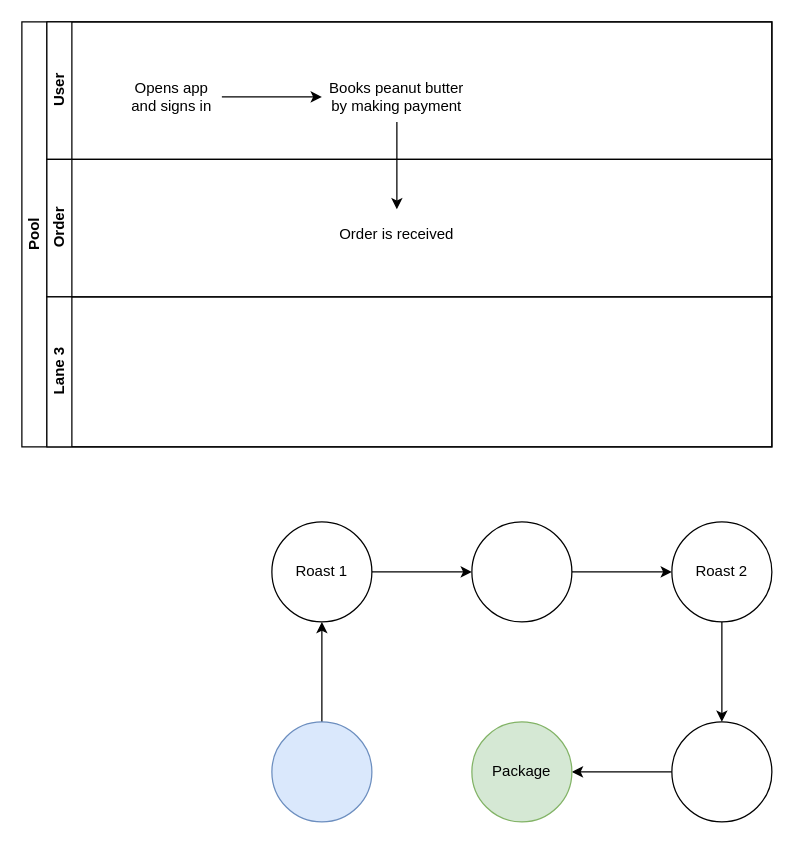
The diagram is 794 pixels wide and 844 high, and some of its shapes have lost their labels. Each missing label, with the centre of its shape:
Blend: the point at 721,771
Peel: the point at 521,571
Source: the point at 321,771
